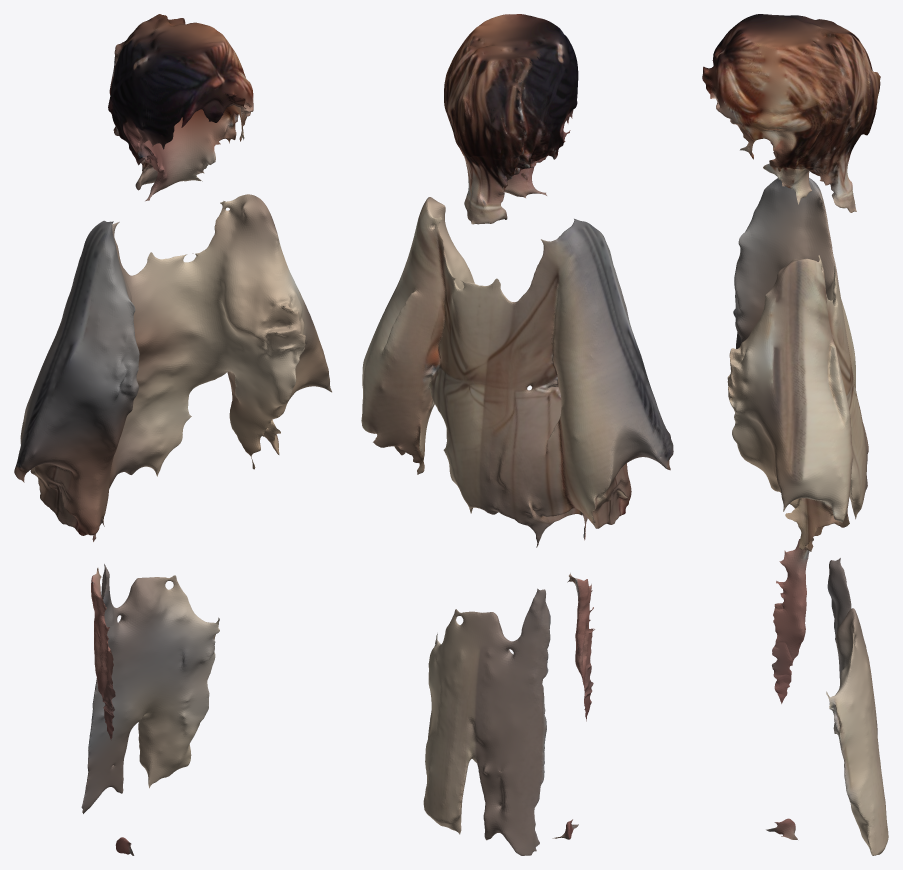
The picture shows the model from 3 angles, left to right: view 1: azimuth 30°, elevation 25°; view 2: azimuth 150°, elevation 25°; view 3: azimuth 270°, elevation 25°; orthographic projection. The views are drawn at different scales.
Parts seen in each view (by area): view 1: world; view 2: world; view 3: world.
Boxes of the visible parts, x1=… form: world: x1=14, y1=14, x2=331, y2=855; world: x1=361, y1=14, x2=673, y2=855; world: x1=702, y1=14, x2=888, y2=855.
Size of the model in its own units: 0.8172 by 2.01 by 0.4056.
